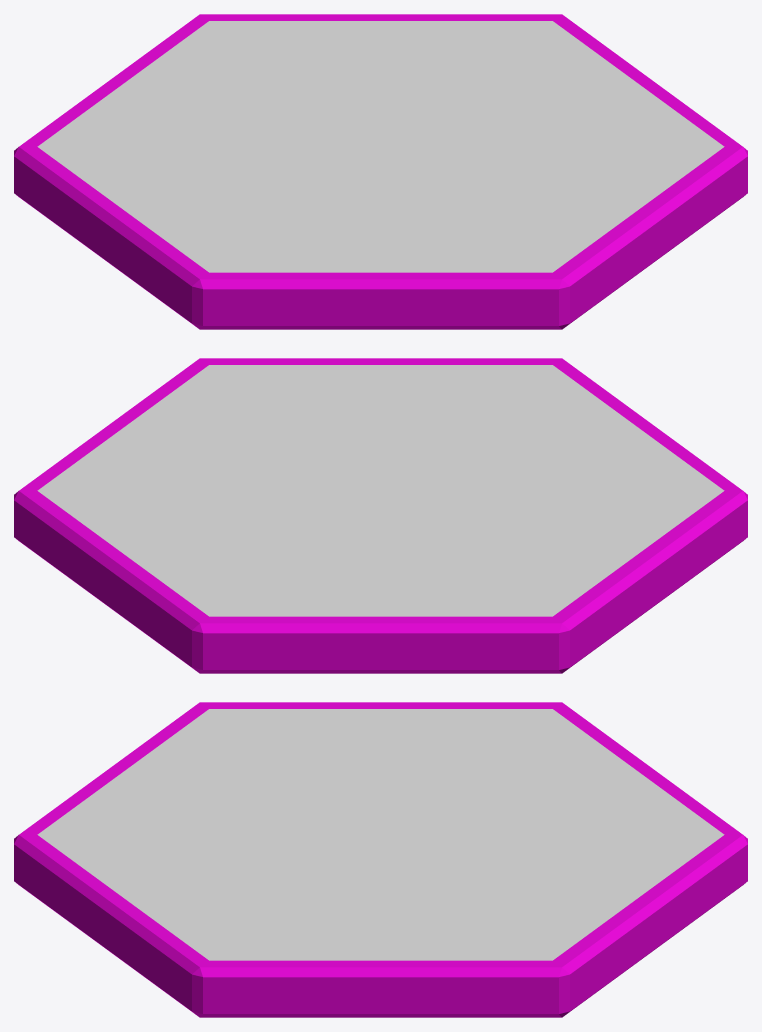
The model's file is HexTile.fbx.
3 views of the same model, one above another, from view 1: azimuth 30°, elevation 25°; view 2: azimuth 150°, elevation 25°; view 3: azimuth 270°, elevation 25° (orthographic).
Visible parts, largest first — view 1: HexTile; view 2: HexTile; view 3: HexTile.
Part boxes in pixels (x1=…): HexTile: x1=14, y1=14, x2=747, y2=329; HexTile: x1=14, y1=358, x2=747, y2=673; HexTile: x1=14, y1=702, x2=747, y2=1017.
Bounding box in the file's own units: 173 × 15 × 198.
